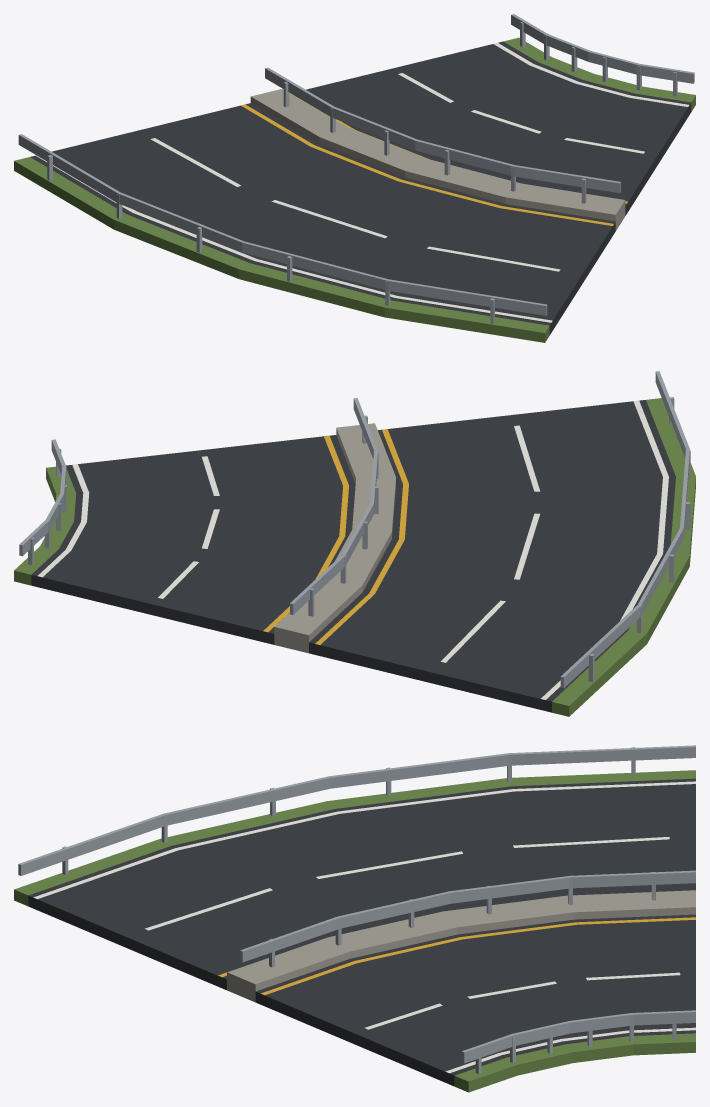
File: Highway_4Lane_Divided_Curve45_L.glb
3 views of the same model, one above another, from view 1: azimuth 30°, elevation 25°; view 2: azimuth 150°, elevation 25°; view 3: azimuth 270°, elevation 25° (orthographic). The views are drawn at different scales.
Parts seen in each view (by area): view 1: Highway_4Lane_Divided_Curve45_L_Asphalt, Highway_4Lane_Divided_Curve45_L_Metal, Highway_4Lane_Divided_Curve45_L_Grass-edge, Highway_4Lane_Divided_Curve45_L_Concrete, Highway_4Lane_Divided_Curve45_L_PaintWhite, Highway_4Lane_Divided_Curve45_L_PaintYellow; view 2: Highway_4Lane_Divided_Curve45_L_Asphalt, Highway_4Lane_Divided_Curve45_L_Grass-edge, Highway_4Lane_Divided_Curve45_L_Concrete, Highway_4Lane_Divided_Curve45_L_Metal, Highway_4Lane_Divided_Curve45_L_PaintWhite, Highway_4Lane_Divided_Curve45_L_PaintYellow; view 3: Highway_4Lane_Divided_Curve45_L_Asphalt, Highway_4Lane_Divided_Curve45_L_Metal, Highway_4Lane_Divided_Curve45_L_Concrete, Highway_4Lane_Divided_Curve45_L_Grass-edge, Highway_4Lane_Divided_Curve45_L_PaintWhite, Highway_4Lane_Divided_Curve45_L_PaintYellow.
Part boxes in pixels (x1,y1,x2,y2): Highway_4Lane_Divided_Curve45_L_Asphalt: [30, 41, 691, 334]; Highway_4Lane_Divided_Curve45_L_Metal: [18, 14, 694, 324]; Highway_4Lane_Divided_Curve45_L_Grass-edge: [14, 37, 695, 342]; Highway_4Lane_Divided_Curve45_L_Concrete: [250, 89, 625, 230]; Highway_4Lane_Divided_Curve45_L_PaintWhite: [35, 42, 689, 322]; Highway_4Lane_Divided_Curve45_L_PaintYellow: [241, 93, 627, 225]; Highway_4Lane_Divided_Curve45_L_Asphalt: [31, 400, 675, 712]; Highway_4Lane_Divided_Curve45_L_Grass-edge: [14, 398, 695, 716]; Highway_4Lane_Divided_Curve45_L_Concrete: [274, 423, 395, 653]; Highway_4Lane_Divided_Curve45_L_Metal: [19, 371, 690, 688]; Highway_4Lane_Divided_Curve45_L_PaintWhite: [38, 400, 668, 699]; Highway_4Lane_Divided_Curve45_L_PaintYellow: [263, 429, 408, 644]; Highway_4Lane_Divided_Curve45_L_Asphalt: [28, 778, 695, 1086]; Highway_4Lane_Divided_Curve45_L_Metal: [18, 745, 695, 1074]; Highway_4Lane_Divided_Curve45_L_Concrete: [227, 890, 695, 1002]; Highway_4Lane_Divided_Curve45_L_Grass-edge: [14, 770, 695, 1092]; Highway_4Lane_Divided_Curve45_L_PaintWhite: [33, 781, 695, 1073]; Highway_4Lane_Divided_Curve45_L_PaintYellow: [218, 917, 695, 995].
Bounding box in the file's own units: 18.34 × 1.25 × 16.97.
